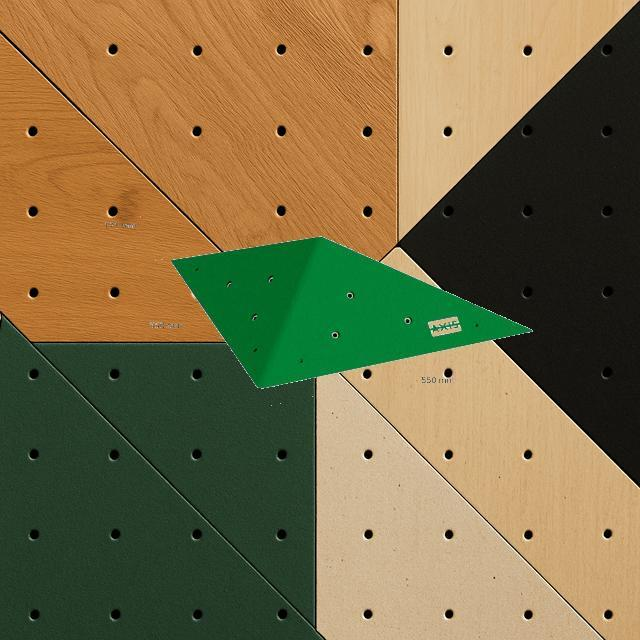Volume: (168, 234, 534, 390)
